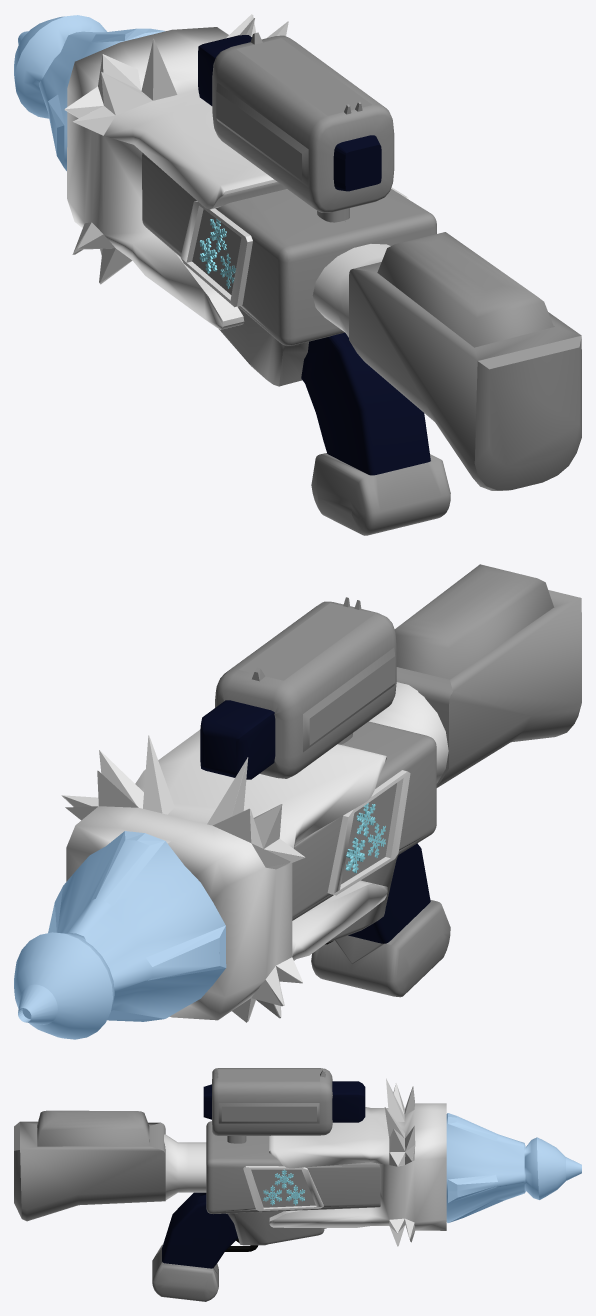
The model's file is Ray_Freezer.fbx.
3 views of the same model, one above another, from view 1: azimuth 30°, elevation 25°; view 2: azimuth 150°, elevation 25°; view 3: azimuth 270°, elevation 25° (orthographic). The views are drawn at different scales.
Parts seen in each view (by area): view 1: Body_Front, Gun_Stock, Body_Main, Head(Not Scope), Handle_Body, Clip, Handle_End, Gun_Cylinder, Head_Front&Back, Bar, Body_Bottom, Gun_Stock_Front (+1 smaller); view 2: Body_Front, Gun_Cylinder, Gun_Stock, Head(Not Scope), Body_Main, Clip, Handle_End, Head_Front&Back, Bar, Handle_Body, Body_Decoration, Gun_Stock_Front (+1 smaller); view 3: Body_Front, Gun_Stock, Body_Main, Gun_Cylinder, Head(Not Scope), Clip, Handle_Body, Handle_End, Gun_Stock_Front, Bar, Body_Bottom, Head_Front&Back (+1 smaller).
Part boxes in pixels (x1,y1,x2,y2): Body_Front: (64, 14, 288, 329); Gun_Stock: (349, 262, 581, 490); Body_Main: (142, 152, 436, 345); Head(Not Scope): (212, 32, 394, 222); Handle_Body: (301, 332, 430, 475); Clip: (377, 232, 553, 347); Handle_End: (311, 453, 450, 535); Gun_Cylinder: (14, 15, 165, 170); Head_Front&Back: (198, 35, 381, 191); Bar: (216, 83, 308, 187); Body_Bottom: (219, 307, 308, 386); Gun_Stock_Front: (312, 244, 390, 337); Body_Front: (61, 730, 387, 1022); Gun_Cylinder: (14, 831, 226, 1039); Gun_Stock: (396, 590, 581, 787); Head(Not Scope): (215, 597, 396, 778); Body_Main: (292, 721, 436, 920); Clip: (395, 564, 553, 679); Handle_End: (311, 900, 450, 997); Head_Front&Back: (200, 700, 275, 779); Bar: (303, 647, 395, 752); Handle_Body: (348, 843, 430, 943); Body_Decoration: (327, 770, 410, 895); Gun_Stock_Front: (369, 682, 448, 783); Body_Front: (269, 1078, 446, 1246); Gun_Stock: (14, 1121, 165, 1221); Body_Main: (206, 1121, 380, 1213); Gun_Cylinder: (446, 1113, 581, 1222); Head(Not Scope): (212, 1068, 332, 1143); Clip: (37, 1110, 149, 1146); Handle_Body: (162, 1192, 238, 1268); Handle_End: (152, 1244, 218, 1301); Gun_Stock_Front: (164, 1134, 206, 1200); Bar: (218, 1103, 319, 1123); Body_Bottom: (226, 1211, 326, 1245); Head_Front&Back: (203, 1081, 365, 1122).
Bounding box in the file's own units: 44.79 × 69.28 × 161.
